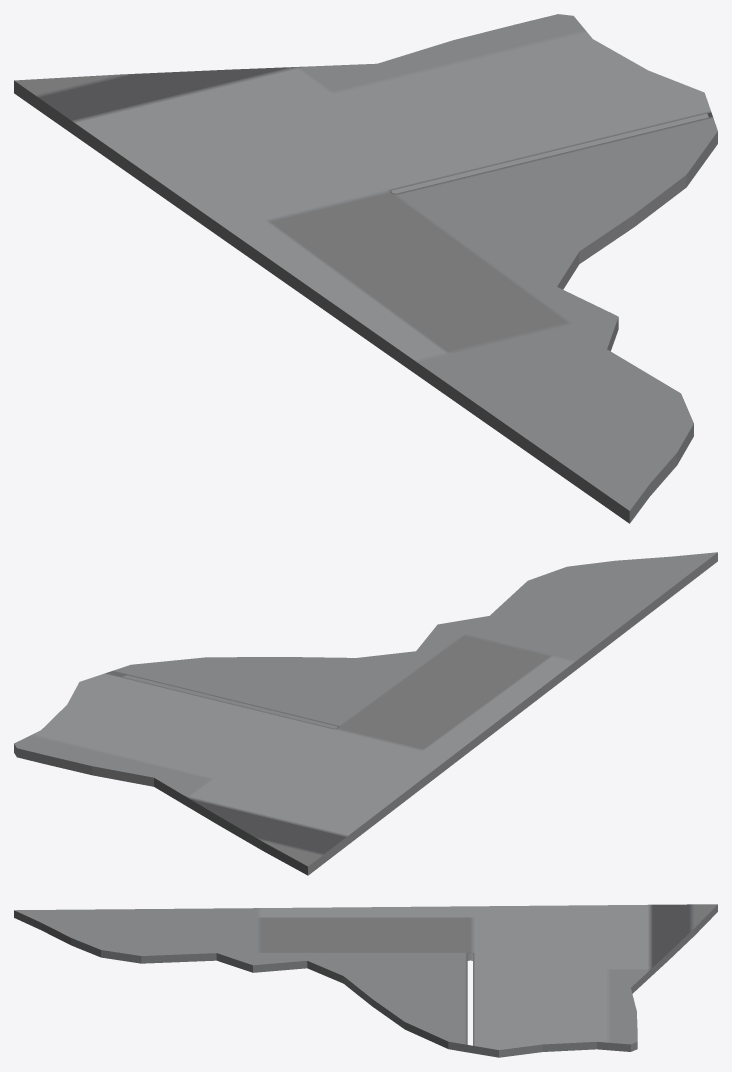
3 views of the same model, one above another, from view 1: azimuth 30°, elevation 25°; view 2: azimuth 150°, elevation 25°; view 3: azimuth 270°, elevation 25° (orthographic). The views are drawn at different scales.
Size of the model in its own units: 1.03 by 0.025 by 2.1.
